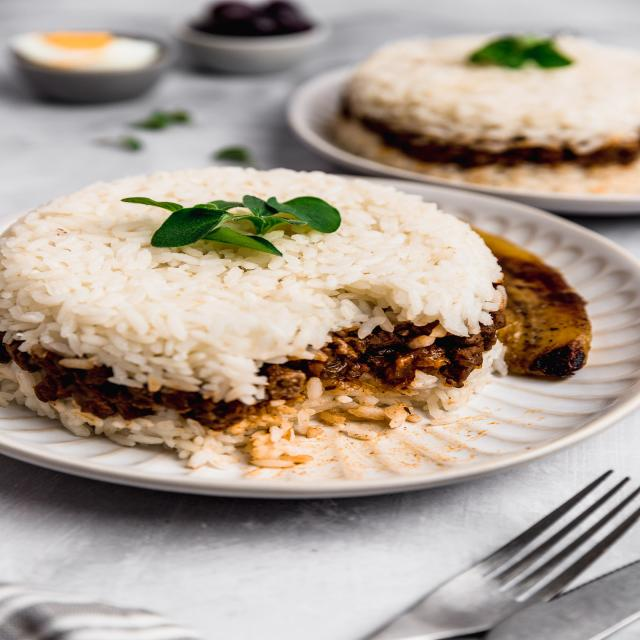arroz: (5, 162, 503, 484)
platano: (458, 216, 614, 395)
